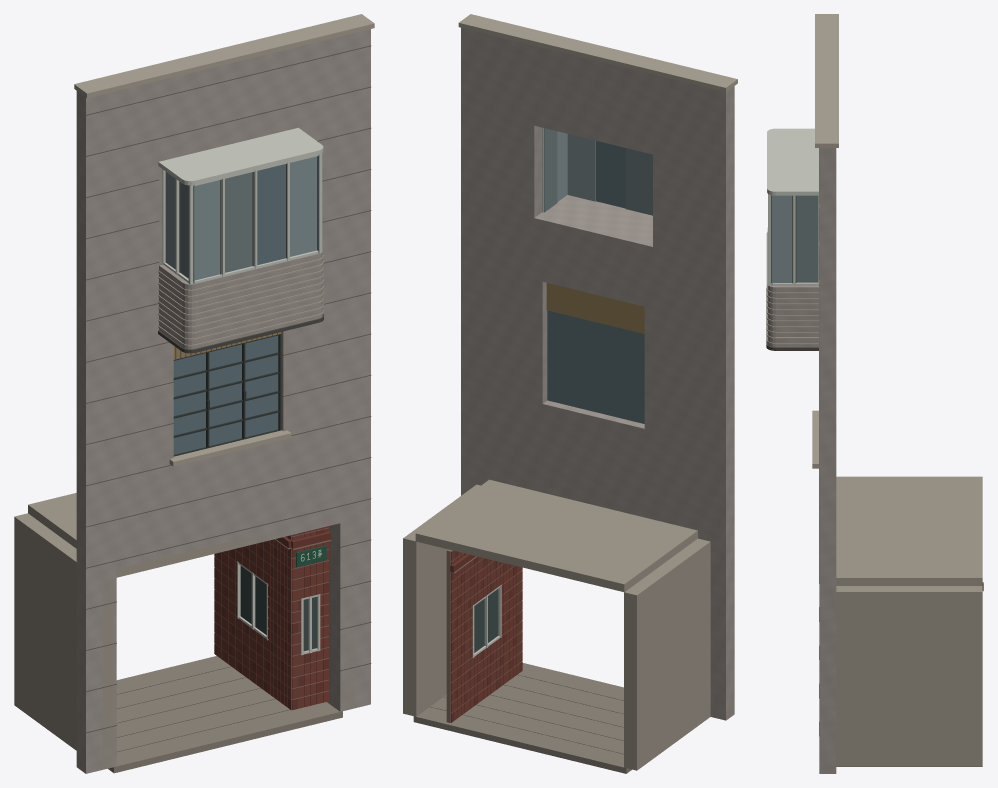
Rendered from xuhui-hujiang-villas-changle-passage-bay-lod.glb.
3 views of the same model, side by side, from view 1: azimuth 30°, elevation 25°; view 2: azimuth 150°, elevation 25°; view 3: azimuth 270°, elevation 25° (orthographic). The views are drawn at different scales.
Visible parts, largest first — view 1: 沪江别墅长乐路613弄通道与挑窗; view 2: 沪江别墅长乐路613弄通道与挑窗; view 3: 沪江别墅长乐路613弄通道与挑窗.
Part boxes in pixels (x1,y1,x2,y2): 沪江别墅长乐路613弄通道与挑窗: (14,14,374,773); 沪江别墅长乐路613弄通道与挑窗: (403,14,737,773); 沪江别墅长乐路613弄通道与挑窗: (766,14,983,773).
Size of the model in its own units: 5.26 by 12.04 by 3.73.
Materials: 19 (1 with a texture image).
